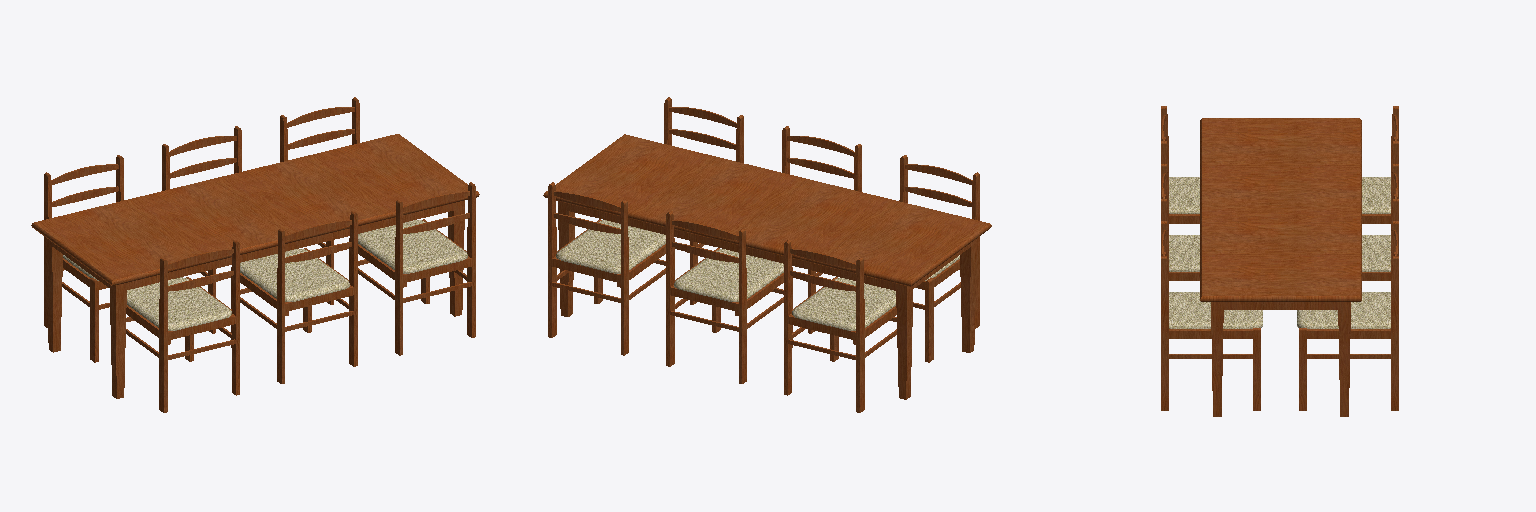
The picture shows the model from 3 angles: view 1: azimuth 30°, elevation 25°; view 2: azimuth 150°, elevation 25°; view 3: azimuth 270°, elevation 25°; orthographic projection.
Parts seen in each view (by area): view 1: Mesh3 table_lib1 t_ch_set1 Model, Mesh12 chair_lib6 t_ch_set1 Model, Mesh8 chair_lib4 t_ch_set1 Model, Mesh4 chair_lib2 t_ch_set1 Model, Mesh1 chair_lib1 t_ch_set1 Model, Mesh9 chair_lib4 t_ch_set1 Model, Mesh13 chair_lib6 t_ch_set1 Model, Mesh5 chair_lib2 t_ch_set1 Model, Mesh10 chair_lib5 t_ch_set1 Model, Mesh6 chair_lib3 t_ch_set1 Model; view 2: Mesh3 table_lib1 t_ch_set1 Model, Mesh10 chair_lib5 t_ch_set1 Model, Mesh6 chair_lib3 t_ch_set1 Model, Mesh1 chair_lib1 t_ch_set1 Model, Mesh4 chair_lib2 t_ch_set1 Model, Mesh7 chair_lib3 t_ch_set1 Model, Mesh11 chair_lib5 t_ch_set1 Model, Mesh2 chair_lib1 t_ch_set1 Model, Mesh12 chair_lib6 t_ch_set1 Model, Mesh8 chair_lib4 t_ch_set1 Model; view 3: Mesh3 table_lib1 t_ch_set1 Model, Mesh6 chair_lib3 t_ch_set1 Model, Mesh8 chair_lib4 t_ch_set1 Model, Mesh9 chair_lib4 t_ch_set1 Model, Mesh7 chair_lib3 t_ch_set1 Model, Mesh5 chair_lib2 t_ch_set1 Model, Mesh13 chair_lib6 t_ch_set1 Model, Mesh2 chair_lib1 t_ch_set1 Model, Mesh11 chair_lib5 t_ch_set1 Model, Mesh4 chair_lib2 t_ch_set1 Model, Mesh1 chair_lib1 t_ch_set1 Model, Mesh12 chair_lib6 t_ch_set1 Model (+1 smaller).
Boxes of the visible parts, x1=… form: Mesh3 table_lib1 t_ch_set1 Model: x1=31, y1=134, x2=479, y2=398; Mesh12 chair_lib6 t_ch_set1 Model: x1=231, y1=211, x2=357, y2=383; Mesh8 chair_lib4 t_ch_set1 Model: x1=349, y1=182, x2=475, y2=355; Mesh4 chair_lib2 t_ch_set1 Model: x1=126, y1=240, x2=239, y2=412; Mesh1 chair_lib1 t_ch_set1 Model: x1=44, y1=155, x2=170, y2=362; Mesh9 chair_lib4 t_ch_set1 Model: x1=358, y1=220, x2=467, y2=273; Mesh13 chair_lib6 t_ch_set1 Model: x1=240, y1=249, x2=349, y2=301; Mesh5 chair_lib2 t_ch_set1 Model: x1=127, y1=277, x2=231, y2=330; Mesh10 chair_lib5 t_ch_set1 Model: x1=162, y1=126, x2=288, y2=333; Mesh6 chair_lib3 t_ch_set1 Model: x1=280, y1=97, x2=406, y2=304; Mesh3 table_lib1 t_ch_set1 Model: x1=543, y1=134, x2=991, y2=399; Mesh10 chair_lib5 t_ch_set1 Model: x1=666, y1=211, x2=792, y2=383; Mesh6 chair_lib3 t_ch_set1 Model: x1=548, y1=182, x2=674, y2=355; Mesh1 chair_lib1 t_ch_set1 Model: x1=784, y1=240, x2=896, y2=412; Mesh4 chair_lib2 t_ch_set1 Model: x1=853, y1=155, x2=979, y2=362; Mesh7 chair_lib3 t_ch_set1 Model: x1=556, y1=220, x2=665, y2=273; Mesh11 chair_lib5 t_ch_set1 Model: x1=674, y1=249, x2=783, y2=301; Mesh2 chair_lib1 t_ch_set1 Model: x1=792, y1=278, x2=895, y2=330; Mesh12 chair_lib6 t_ch_set1 Model: x1=735, y1=126, x2=861, y2=333; Mesh8 chair_lib4 t_ch_set1 Model: x1=617, y1=97, x2=743, y2=304; Mesh3 table_lib1 t_ch_set1 Model: x1=1200, y1=118, x2=1361, y2=416; Mesh6 chair_lib3 t_ch_set1 Model: x1=1299, y1=221, x2=1398, y2=410; Mesh8 chair_lib4 t_ch_set1 Model: x1=1161, y1=221, x2=1260, y2=410; Mesh9 chair_lib4 t_ch_set1 Model: x1=1169, y1=292, x2=1262, y2=328; Mesh7 chair_lib3 t_ch_set1 Model: x1=1297, y1=292, x2=1390, y2=328; Mesh5 chair_lib2 t_ch_set1 Model: x1=1169, y1=177, x2=1199, y2=213; Mesh13 chair_lib6 t_ch_set1 Model: x1=1169, y1=235, x2=1199, y2=271; Mesh2 chair_lib1 t_ch_set1 Model: x1=1362, y1=177, x2=1390, y2=213; Mesh11 chair_lib5 t_ch_set1 Model: x1=1362, y1=235, x2=1390, y2=271; Mesh4 chair_lib2 t_ch_set1 Model: x1=1161, y1=106, x2=1199, y2=223; Mesh1 chair_lib1 t_ch_set1 Model: x1=1362, y1=106, x2=1398, y2=223; Mesh12 chair_lib6 t_ch_set1 Model: x1=1161, y1=164, x2=1199, y2=280.
Size of the model in its own units: 96.75 by 38.51 by 54.44.
2 materials, 2 textured.